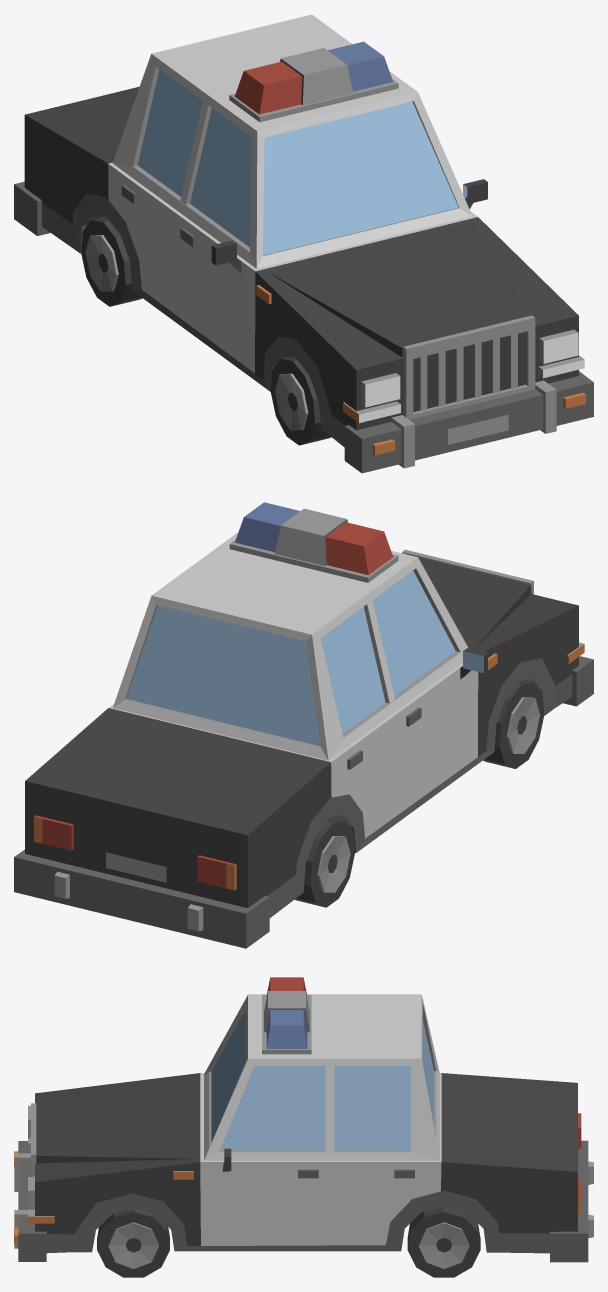
Rendered from transport_purpose_002.fbx.
3 views of the same model, one above another, from view 1: azimuth 30°, elevation 25°; view 2: azimuth 150°, elevation 25°; view 3: azimuth 270°, elevation 25° (orthographic). The views are drawn at different scales.
Visible parts, largest first — view 1: transport_purpose_002; view 2: transport_purpose_002; view 3: transport_purpose_002.
Boxes of the visible parts, x1,y1,x2,y2 form: transport_purpose_002: (14,14,593,473); transport_purpose_002: (14,502,593,948); transport_purpose_002: (14,977,593,1277).
Bounding box in the file's own units: 148 × 147 × 333.
